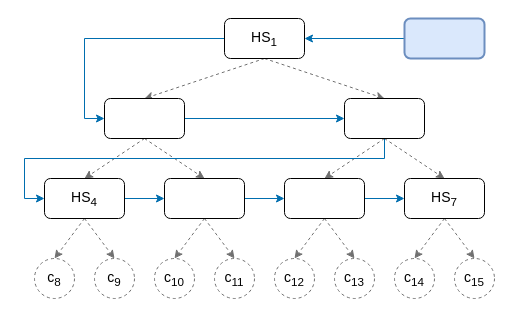
Some shapes in this 512 by 316 pixel diagram are drawn without their labels. Here are the shapes that lost their labels. From the top down, the centre of each, then its label:
the point at 444,38: HS 0
the point at 144,118: HS 2
the point at 384,118: HS 3
the point at 204,198: HS 5
the point at 324,198: HS 6
